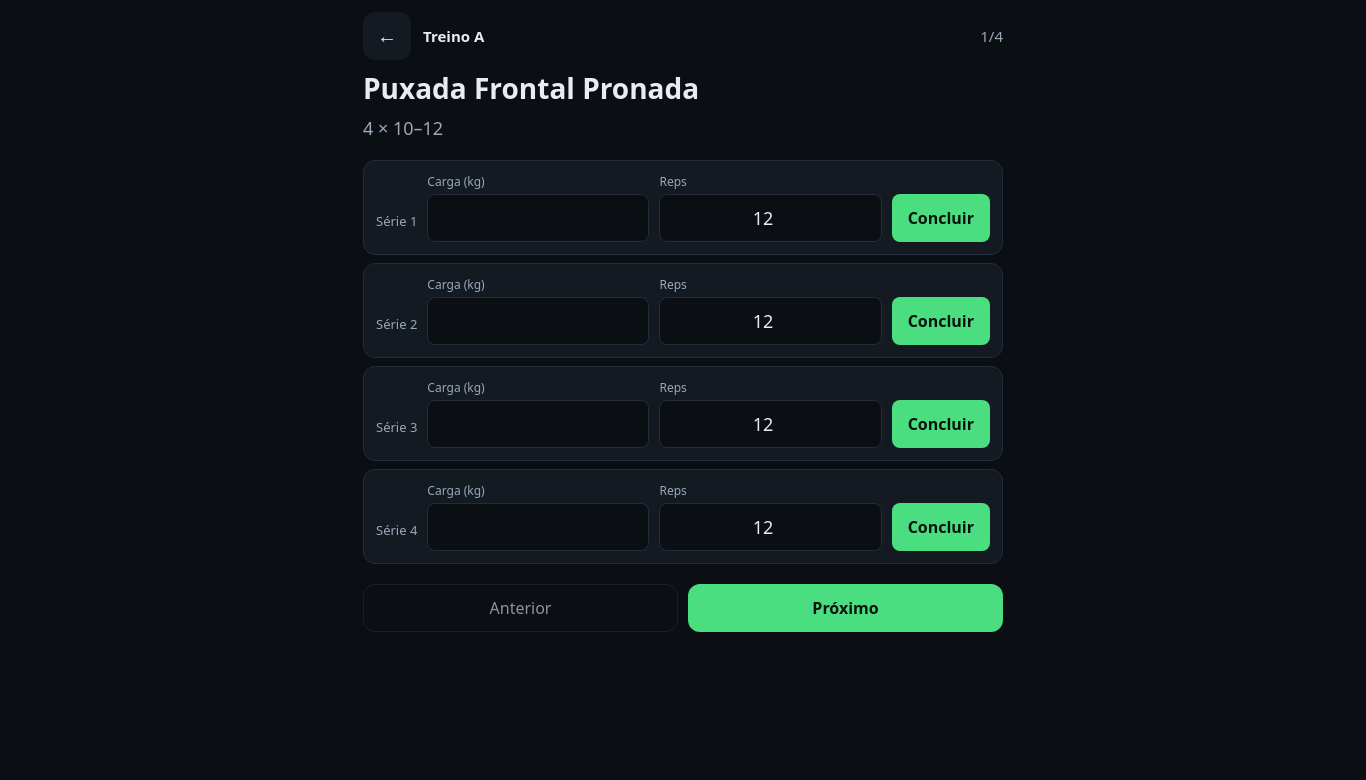
Test: ExecucaoTreino › registrar sobrevive ao mundo real › marca a série como feita na tela
The width and height of the screenshot is (1366, 780).
Step 1. Click the button with aria-label "Concluir série 1" → (941, 218), box left=892, top=194, right=990, bottom=242
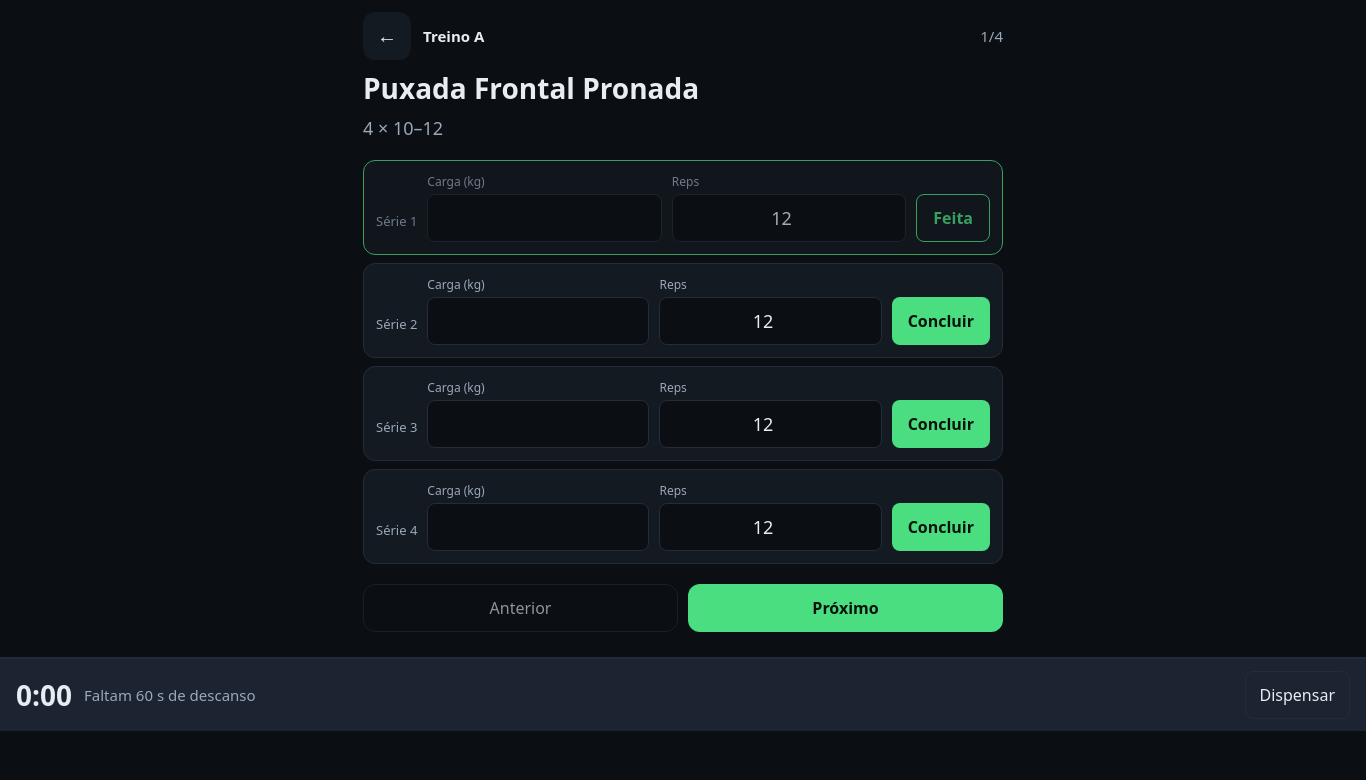
Check: the button with aria-label "Concluir série 1" reads "Feita", box left=916, top=194, right=990, bottom=242
